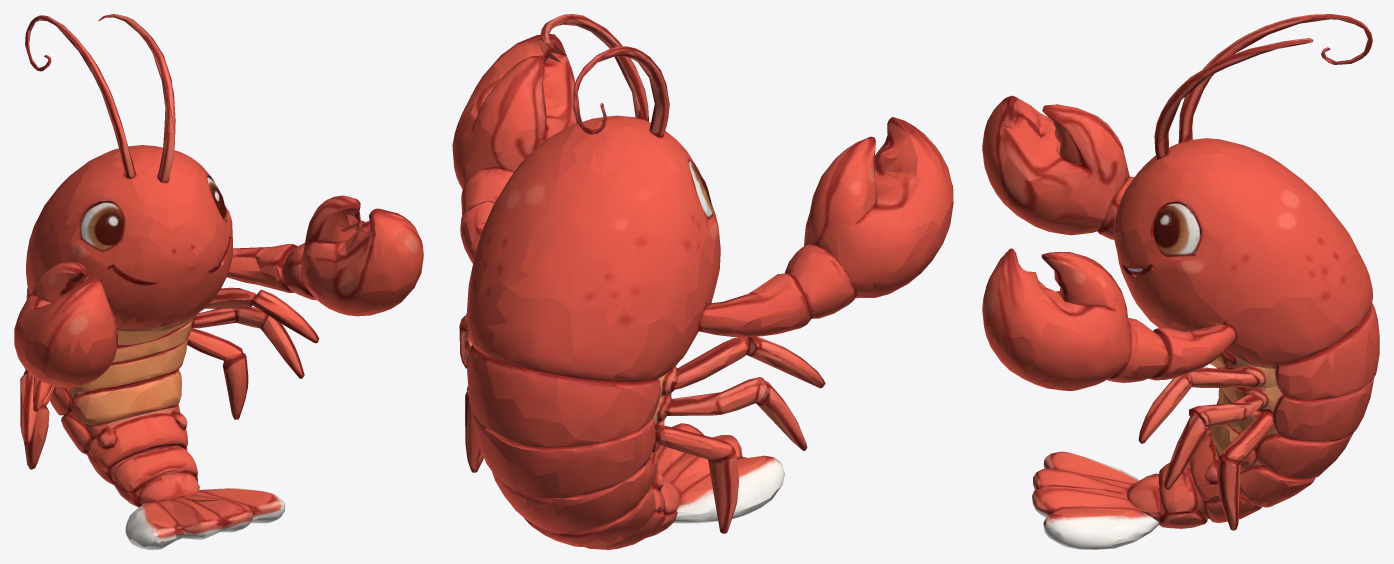
File: pet_pinch.glb
3 renders of one model, left to right at view 1: azimuth 30°, elevation 25°; view 2: azimuth 150°, elevation 25°; view 3: azimuth 270°, elevation 25°, orthographic. The views are drawn at different scales.
Size of the model in its own units: 1.72 by 1.9 by 1.4.
1 material, 1 textured.
